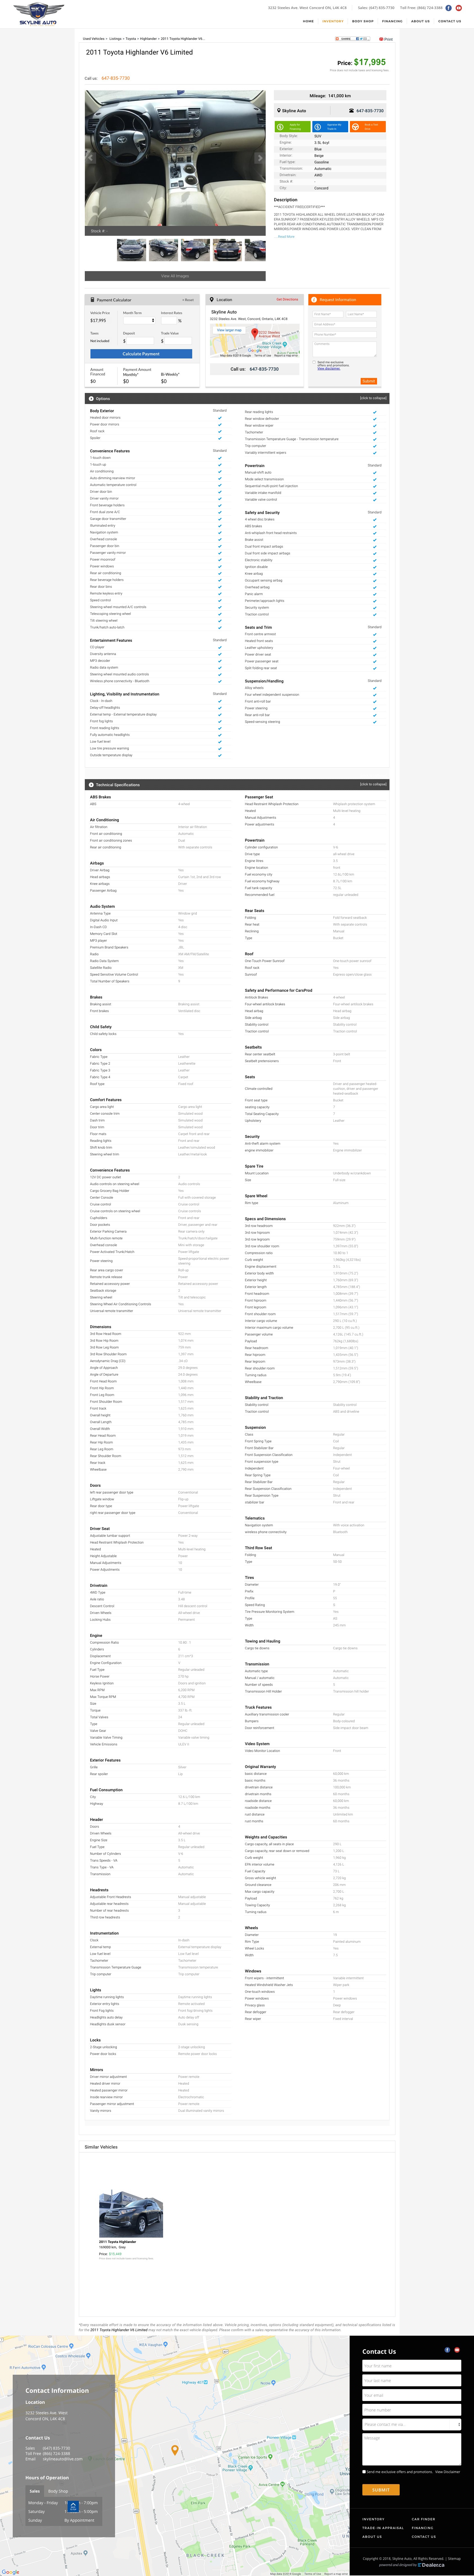car: (254, 153, 266, 164)
